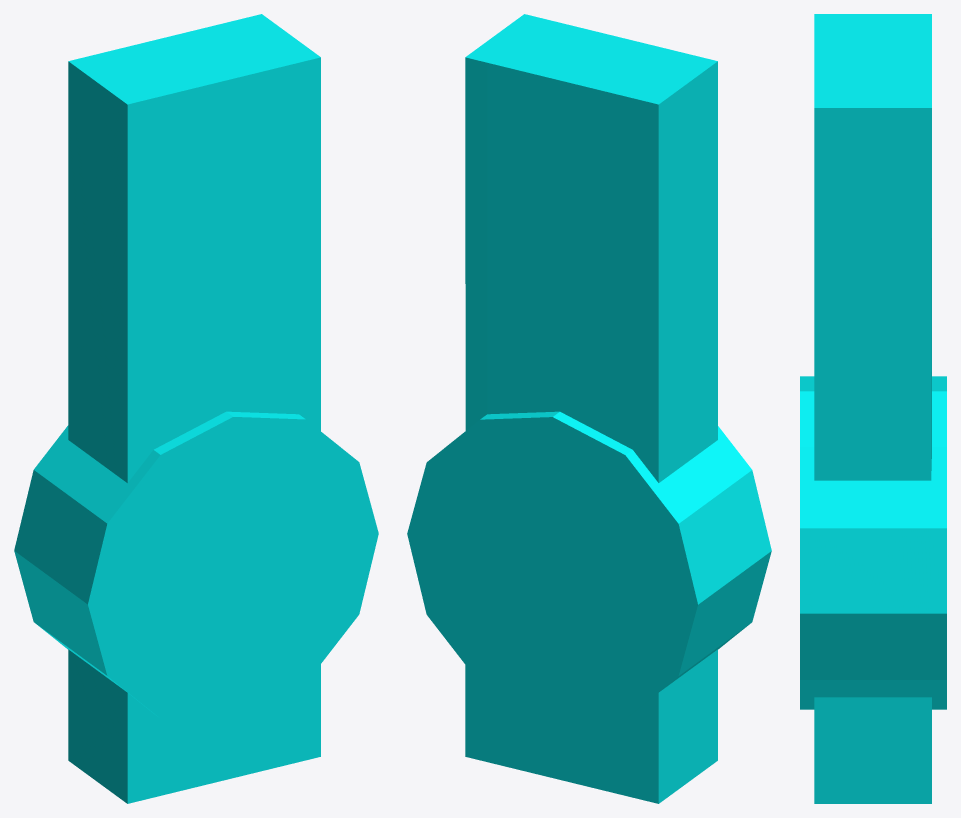
File: Juguete_AClarito.fbx
The picture shows the model from 3 angles, left to right: view 1: azimuth 30°, elevation 25°; view 2: azimuth 150°, elevation 25°; view 3: azimuth 270°, elevation 25°; orthographic projection.
Visible parts, largest first — view 1: Juguete_2; view 2: Juguete_2; view 3: Juguete_2.
Part boxes in pixels (bbox=[...]): Juguete_2: bbox=[14, 14, 378, 803]; Juguete_2: bbox=[407, 14, 771, 803]; Juguete_2: bbox=[800, 14, 946, 803].
Bounding box in the file's own units: 11.74 × 26.97 × 5.15.
